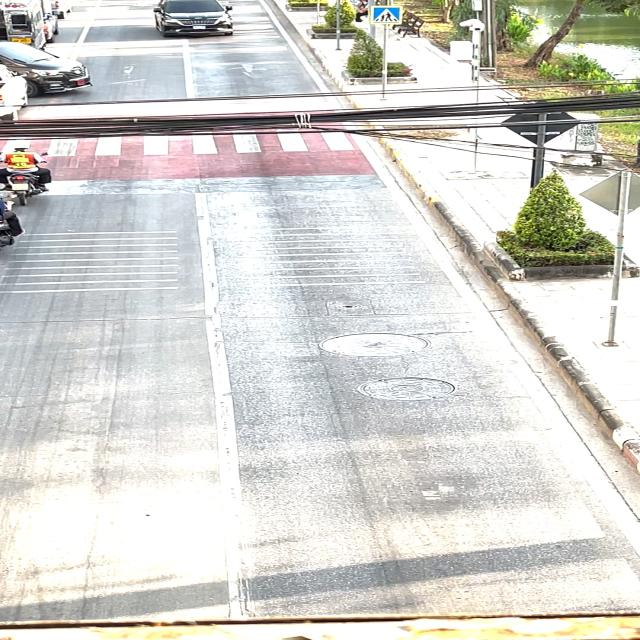car: (137, 0, 262, 47)
